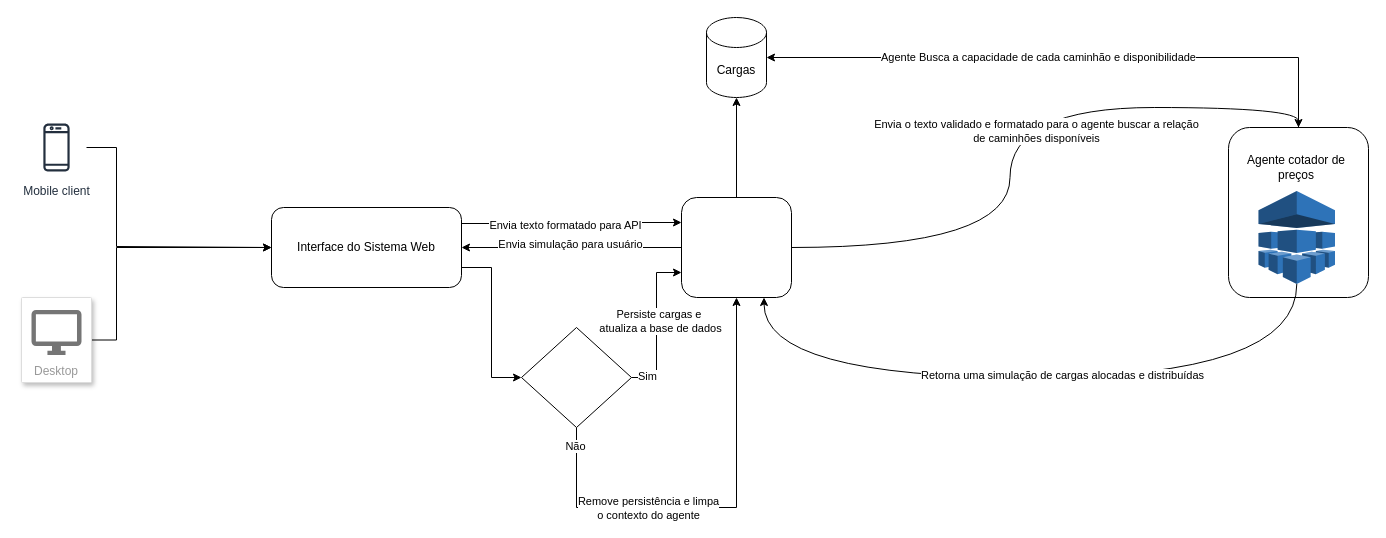
Some shapes in this 1386 by 538 pixel diagram are drawn without their labels. Here are the shapes that lost their labels. From the top down, the centre of each, then its label:
At point (736, 247): "API".
At point (576, 377): "Simulação foi aceita?".
